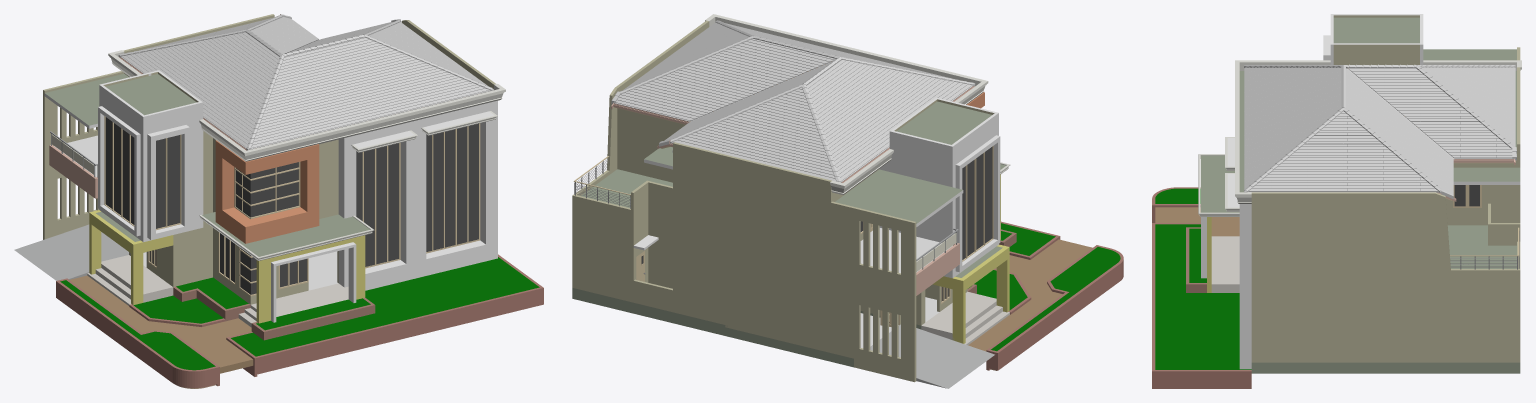
File: House_with_Interior.fbx
The picture shows the model from 3 angles, left to right: view 1: azimuth 30°, elevation 25°; view 2: azimuth 150°, elevation 25°; view 3: azimuth 270°, elevation 25°; orthographic projection. The views are drawn at different scales.
Visible parts, largest first — view 1: 73 011; view 2: 73 011; view 3: 73 011.
Part boxes in pixels (bbox=[...]): 73 011: bbox=[14, 14, 543, 388]; 73 011: bbox=[572, 14, 1123, 388]; 73 011: bbox=[1152, 14, 1521, 388].
Bounding box in the file's own units: 1958 × 1180 × 1654.
